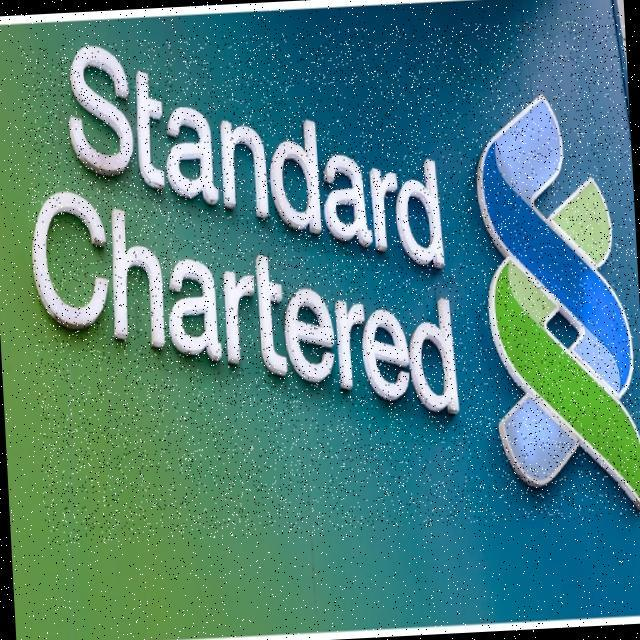Standard Chartered: (19, 14, 640, 546)
